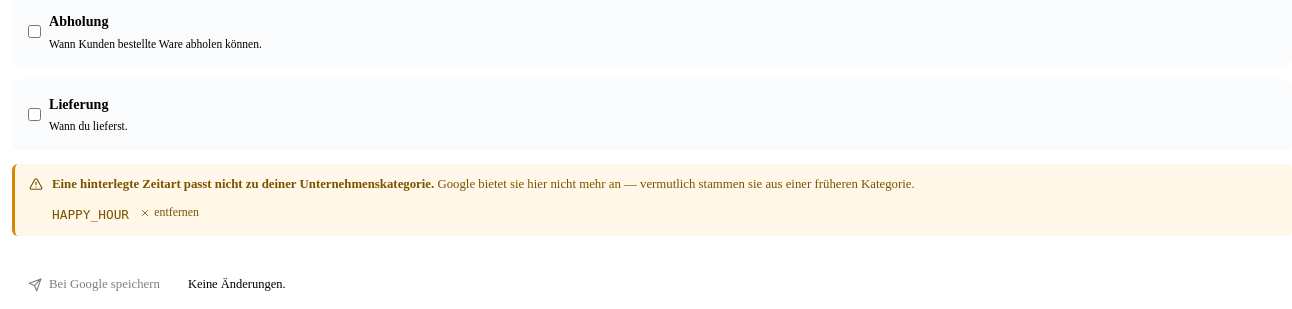
Test case: Hinterlegte Arten, die nicht zur Kategorie passen › lässt sie entfernen
Click the button with aria-label "HAPPY_HOUR entfernen". click: (170, 212)
box: [132,201,207,224]
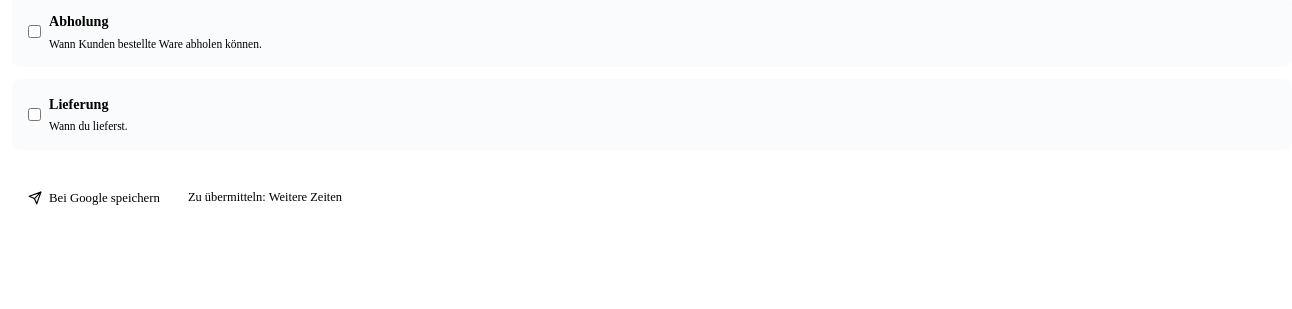
Now the text "HAPPY_HOUR" is gone
Now the button "Bei Google speichern" is enabled, box [12,182,176,215]
